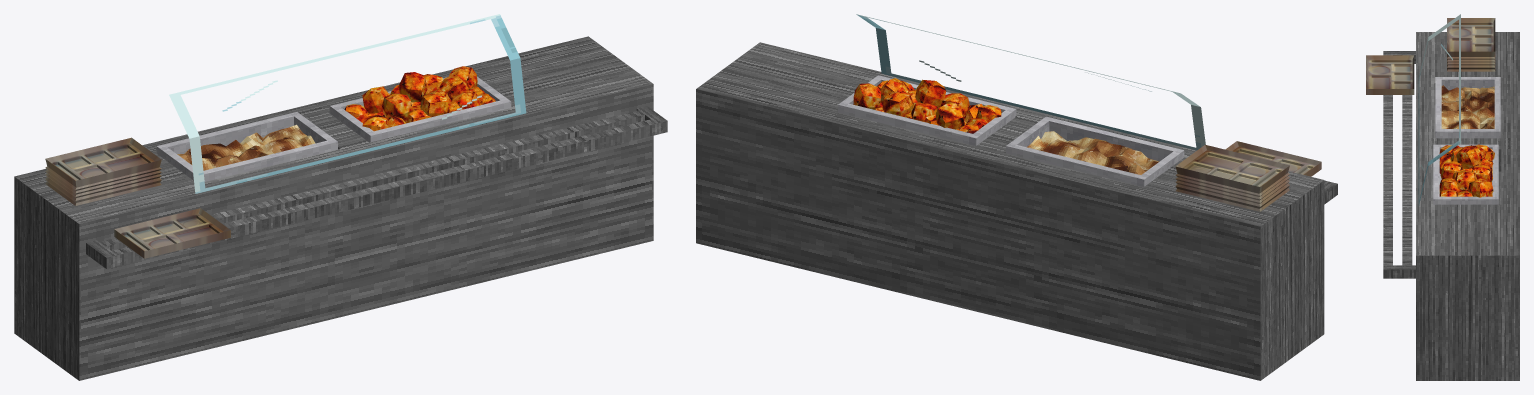
File: counter.glb
3 views of the same model, side by side, from view 1: azimuth 30°, elevation 25°; view 2: azimuth 150°, elevation 25°; view 3: azimuth 270°, elevation 25° (orthographic). The views are drawn at different scales.
Visible parts, largest first — view 1: Kitchen, Counter Rail, Tray Stack, Glass, Slop Tray, Tray.002, Slop, Tray, Bomble.020, Bomble, Bomble.014; view 2: Kitchen, Tray Stack, Slop Tray, Tray, Slop, Glass, Tray.002, Bomble.020, Bomble.008, Bomble.017, Bomble.004; view 3: Kitchen, Counter Rail, Tray Stack, Slop, Tray.002, Slop Tray, Tray, Glass, Bomble.020, Bomble.004, Bomble.009, Bomble.014 (+3 smaller).
Boxes of the visible parts, x1,y1,x2,y2 form: Kitchen: (14,36,653,380); Counter Rail: (86,106,667,268); Tray Stack: (45,137,161,205); Glass: (169,14,526,193); Slop Tray: (156,112,337,181); Tray.002: (114,208,230,258); Slop: (177,124,315,170); Tray: (329,76,511,141); Bomble.020: (398,72,427,102); Bomble: (382,93,412,121); Bomble.014: (420,93,449,116); Kitchen: (696,42,1324,380); Tray Stack: (1175,144,1289,211); Slop Tray: (1006,116,1184,186); Tray: (838,75,1016,145); Slop: (1027,131,1159,174); Glass: (856,14,1205,150); Tray.002: (1225,141,1321,176); Bomble.020: (915,79,945,108); Bomble.008: (882,91,913,116); Bomble.017: (935,103,964,129); Bomble.004: (853,83,881,109); Kitchen: (1416,32,1519,380); Counter Rail: (1383,51,1415,278); Tray Stack: (1447,18,1495,71); Slop: (1441,85,1494,128); Tray.002: (1366,55,1414,94); Slop Tray: (1435,77,1500,138); Tray: (1433,144,1498,204); Glass: (1418,14,1460,206); Bomble.020: (1456,145,1482,168); Bomble.004: (1468,178,1493,197); Bomble.009: (1455,170,1477,191); Bomble.014: (1441,161,1462,178).
Size of the model in its own units: 21.94 by 8.65 by 6.37.
Materials: 8 (8 with a texture image).
